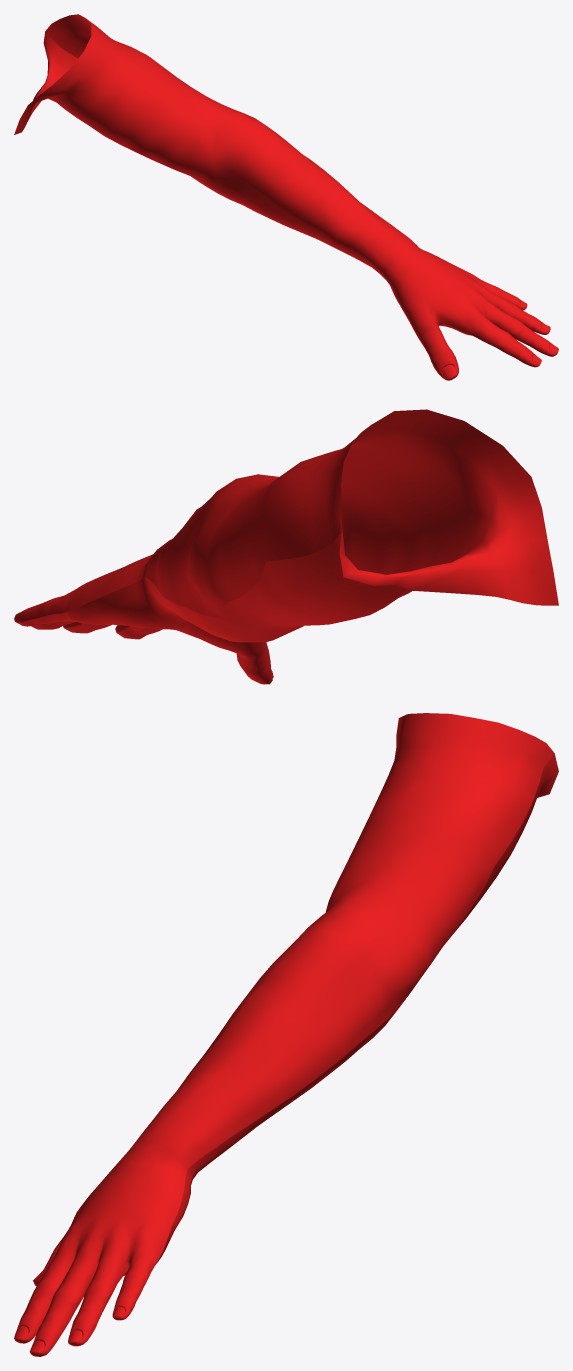
Rendered from hand.glb.
3 renders of one model, top to bottom at view 1: azimuth 30°, elevation 25°; view 2: azimuth 150°, elevation 25°; view 3: azimuth 270°, elevation 25°, orthographic. The views are drawn at different scales.
Visible parts, largest first — view 1: Arm.3; view 2: Arm.3; view 3: Arm.3.
Boxes of the visible parts, box(x1,y1,x2,y2) form: Arm.3: box(14, 14, 558, 380); Arm.3: box(14, 409, 558, 684); Arm.3: box(14, 713, 558, 1356).
Bounding box in the file's own units: 0.1316 × 0.0931 × 0.1077.
